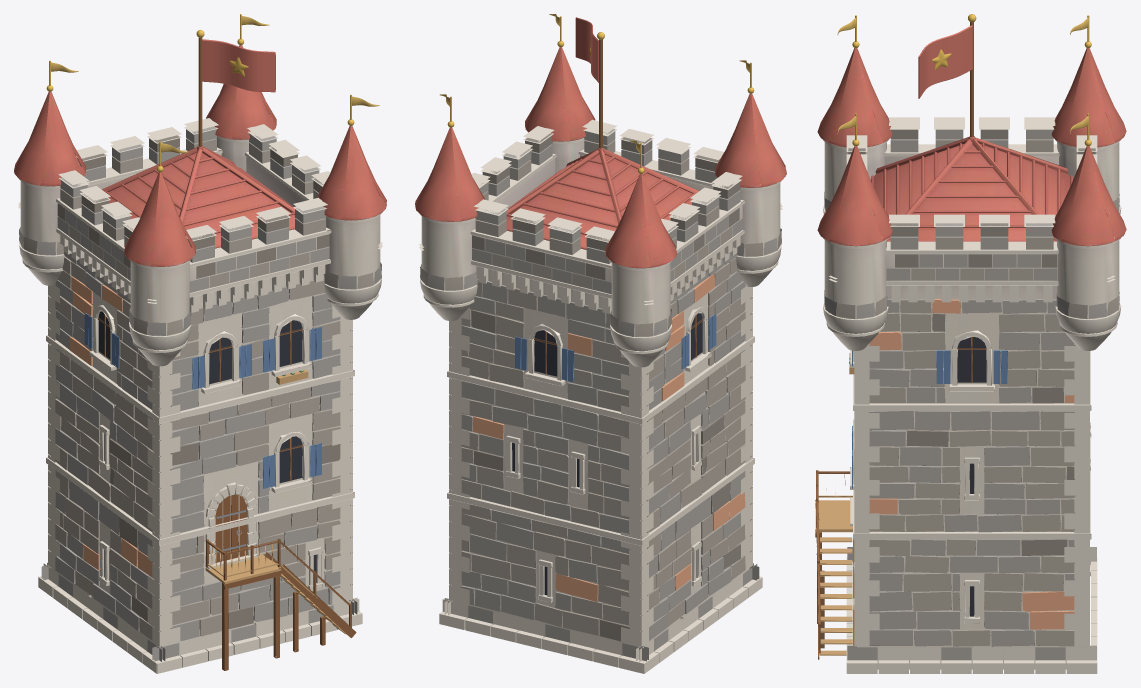
The model's file is keep.glb.
The picture shows the model from 3 angles, left to right: view 1: azimuth 30°, elevation 25°; view 2: azimuth 150°, elevation 25°; view 3: azimuth 270°, elevation 25°; orthographic projection. The views are drawn at different scales.
Parts seen in each view (by area): view 1: keep_stonework, keep_body, keep_masonry, keep_details, keep_trim; view 2: keep_stonework, keep_masonry, keep_body, keep_details, keep_trim; view 3: keep_stonework, keep_body, keep_masonry, keep_details, keep_trim.
Boxes of the visible parts, box(x1,y1,x2,y2) form: keep_stonework: box(55, 252, 340, 641); keep_body: box(14, 45, 386, 655); keep_masonry: box(18, 118, 382, 673); keep_details: box(46, 147, 356, 670); keep_trim: box(19, 14, 381, 384); keep_stonework: box(461, 253, 745, 641); keep_masonry: box(419, 119, 782, 673); keep_body: box(415, 47, 786, 655); keep_details: box(447, 149, 754, 602); keep_trim: box(420, 14, 781, 367); keep_stonework: box(868, 299, 1075, 646); keep_body: box(817, 48, 1126, 669); keep_masonry: box(824, 117, 1119, 673); keep_details: box(815, 144, 1091, 659); keep_trim: box(823, 14, 1121, 374).
Size of the model in its own units: 9.37 by 20.29 by 9.43.
16 materials, 1 textured.
